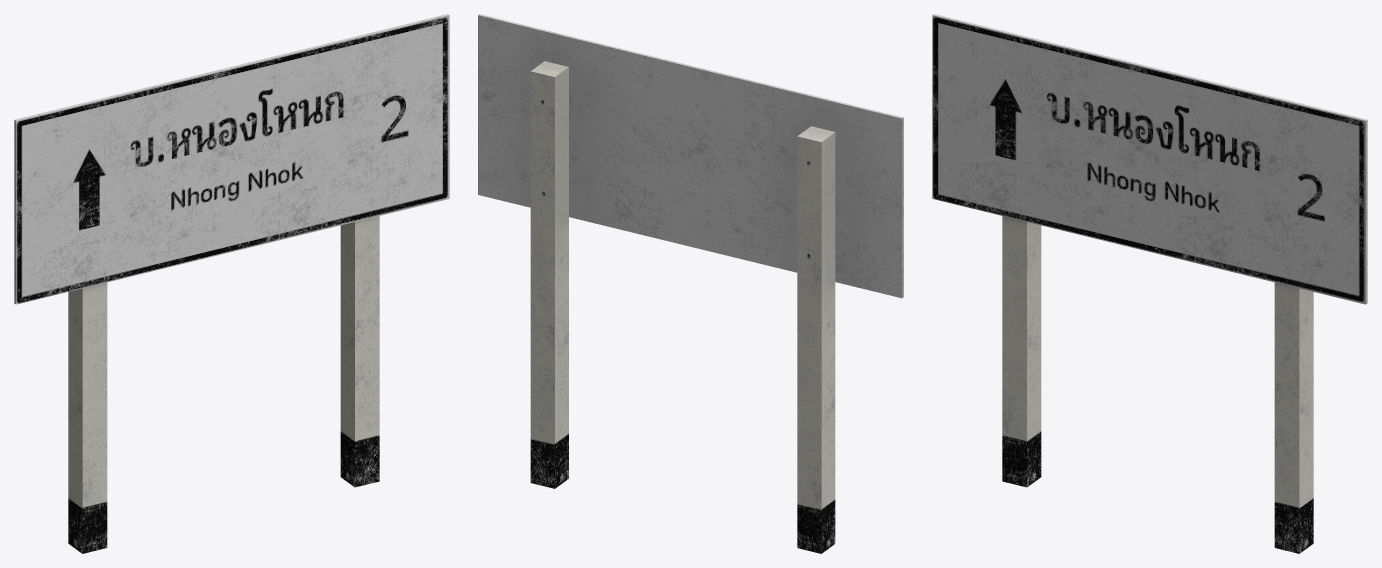
Rendered from roadSign.fbx.
The picture shows the model from 3 angles, left to right: view 1: azimuth 30°, elevation 25°; view 2: azimuth 150°, elevation 25°; view 3: azimuth 330°, elevation 25°; orthographic projection. The views are drawn at different scales.
Visible parts, largest first — view 1: Plane; view 2: Plane; view 3: Plane.
Boxes of the visible parts, box(x1,y1,x2,y2) form: Plane: box(14, 14, 449, 553); Plane: box(478, 14, 903, 553); Plane: box(932, 14, 1367, 553).
Bounding box in the file's own units: 169 × 168 × 10.82.
1 material, 1 textured.
